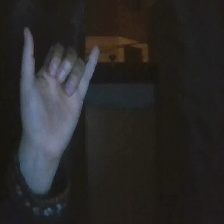Y: (9, 18, 115, 163)
